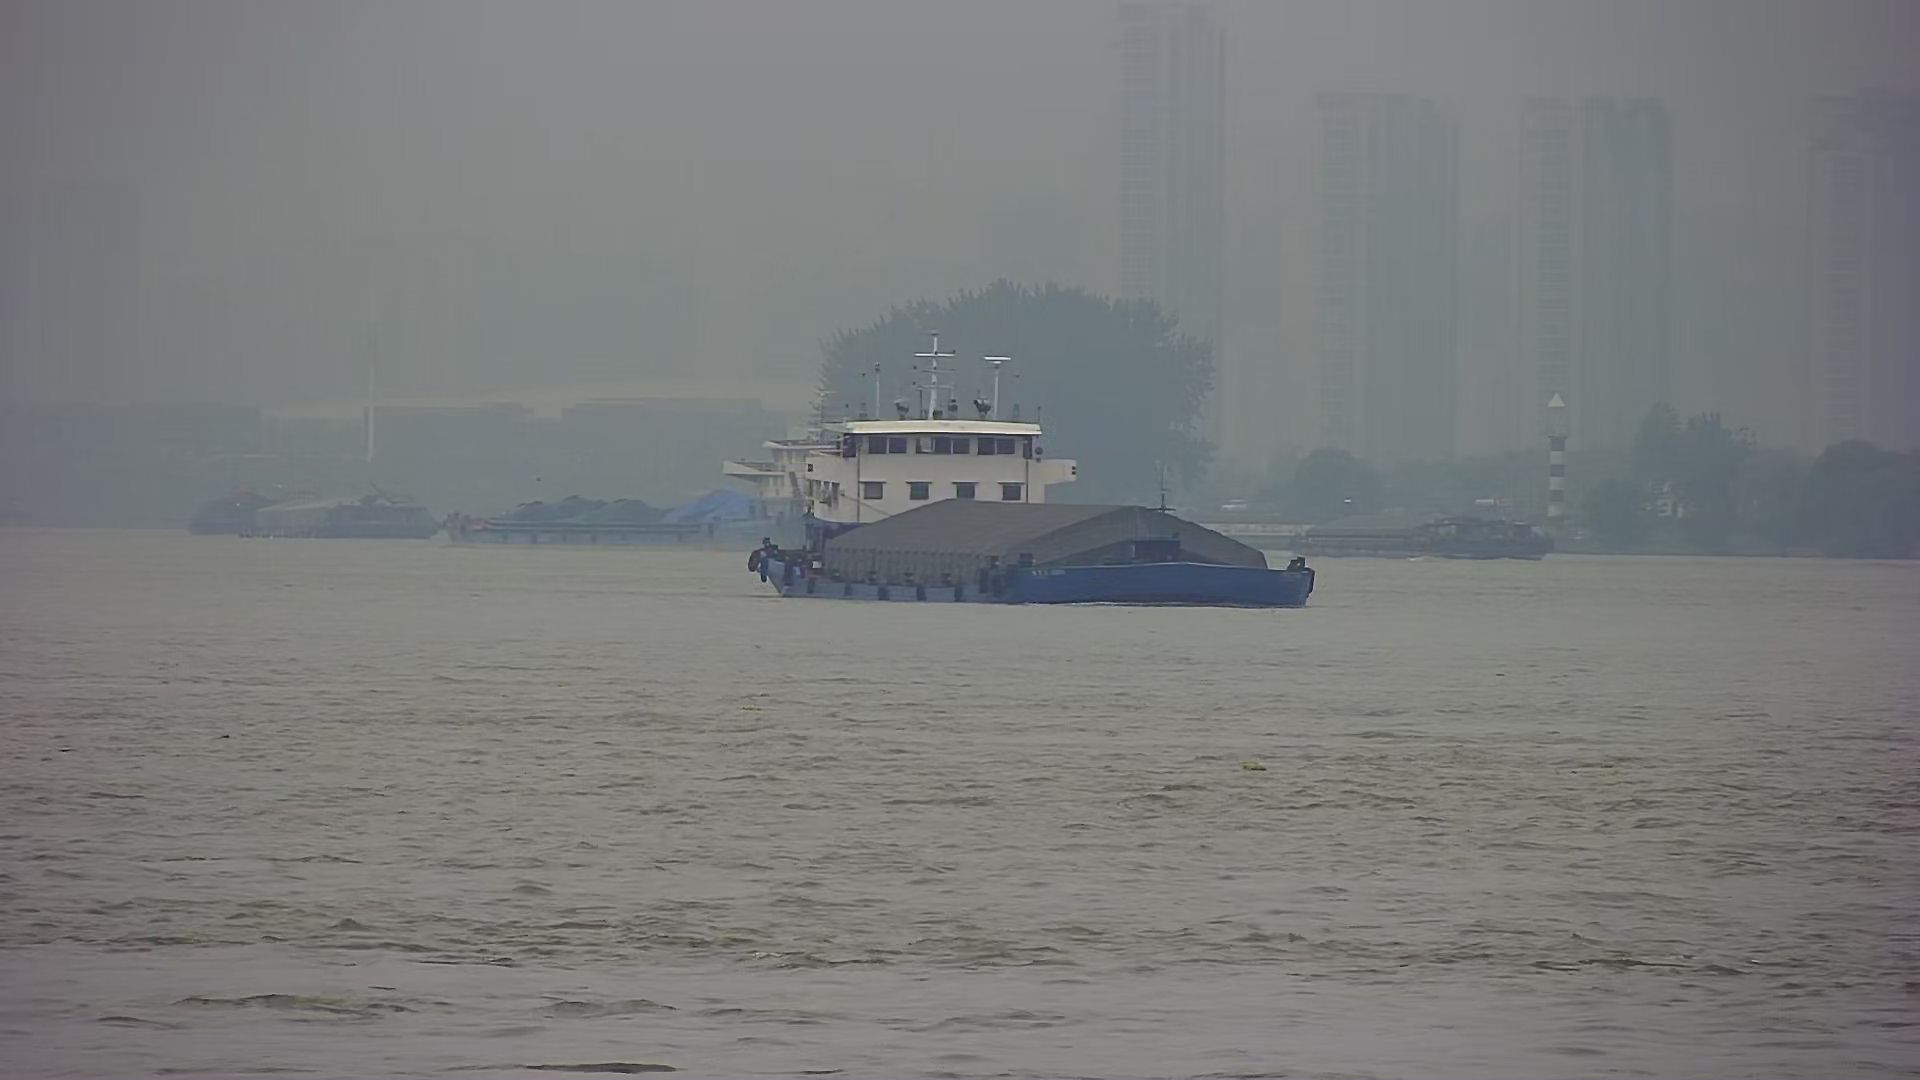ship: (702, 318, 1329, 615), (1276, 489, 1582, 570), (233, 465, 442, 546)
